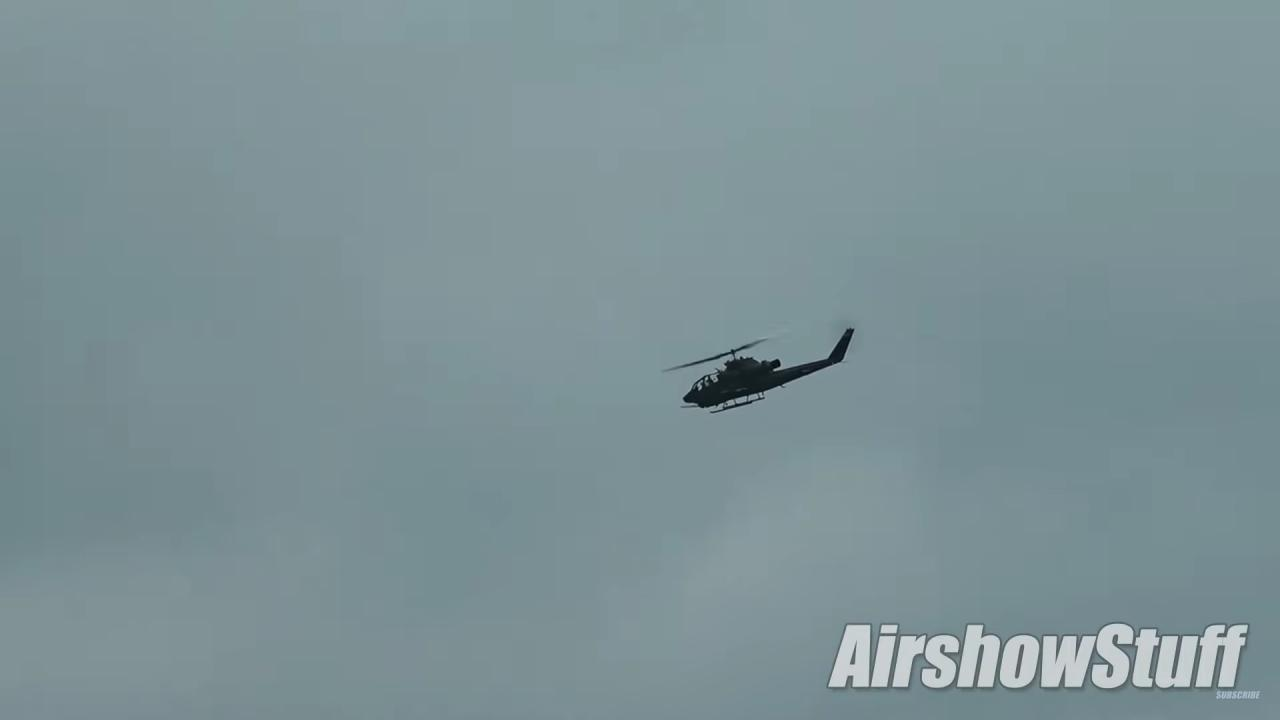Helicopter: (629, 303, 887, 444)
